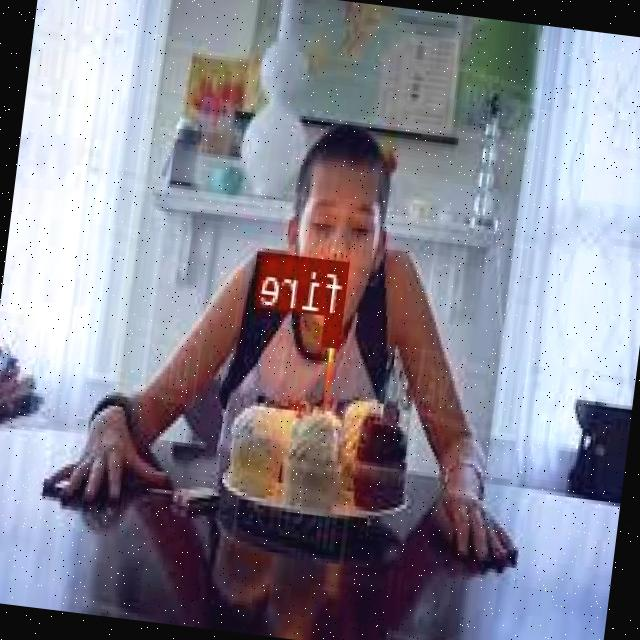fire: (323, 313, 343, 344)
